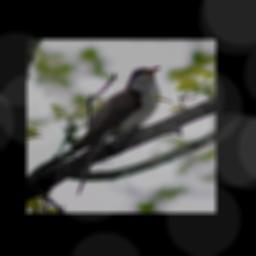Cuckoo: (68, 67, 161, 198)
